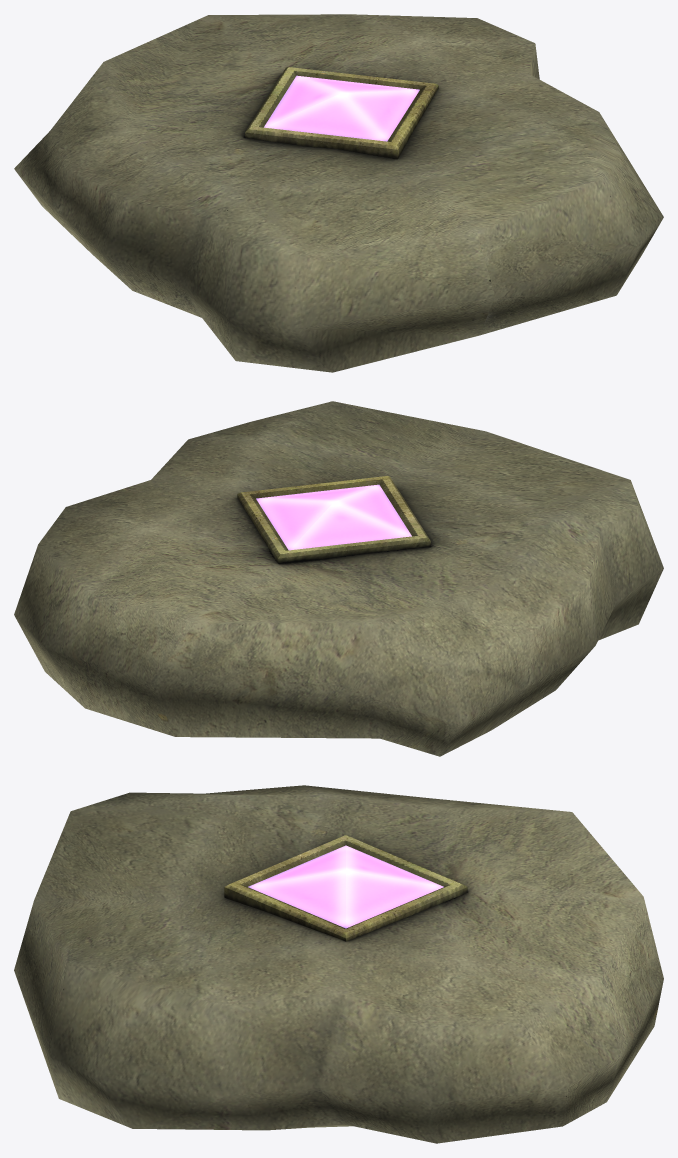
Rendered from Rune_Checkpoint_01.fbx.
3 views of the same model, one above another, from view 1: azimuth 30°, elevation 25°; view 2: azimuth 150°, elevation 25°; view 3: azimuth 270°, elevation 25° (orthographic). The views are drawn at different scales.
Visible parts, largest first — view 1: pCube3; view 2: pCube3; view 3: pCube3.
Part boxes in pixels (bbox=[...]): pCube3: bbox=[14, 14, 663, 372]; pCube3: bbox=[14, 401, 663, 756]; pCube3: bbox=[14, 785, 663, 1143].
Size of the model in its own units: 4.18 by 1.42 by 4.43.
Materials: 1 (1 with a texture image).
